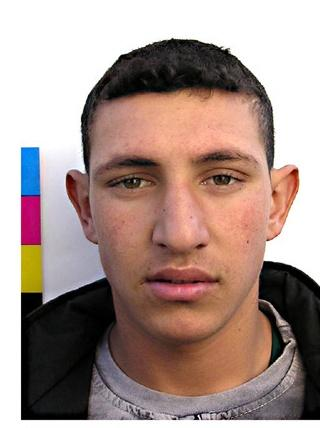No Mask: (0, 0, 316, 428)
